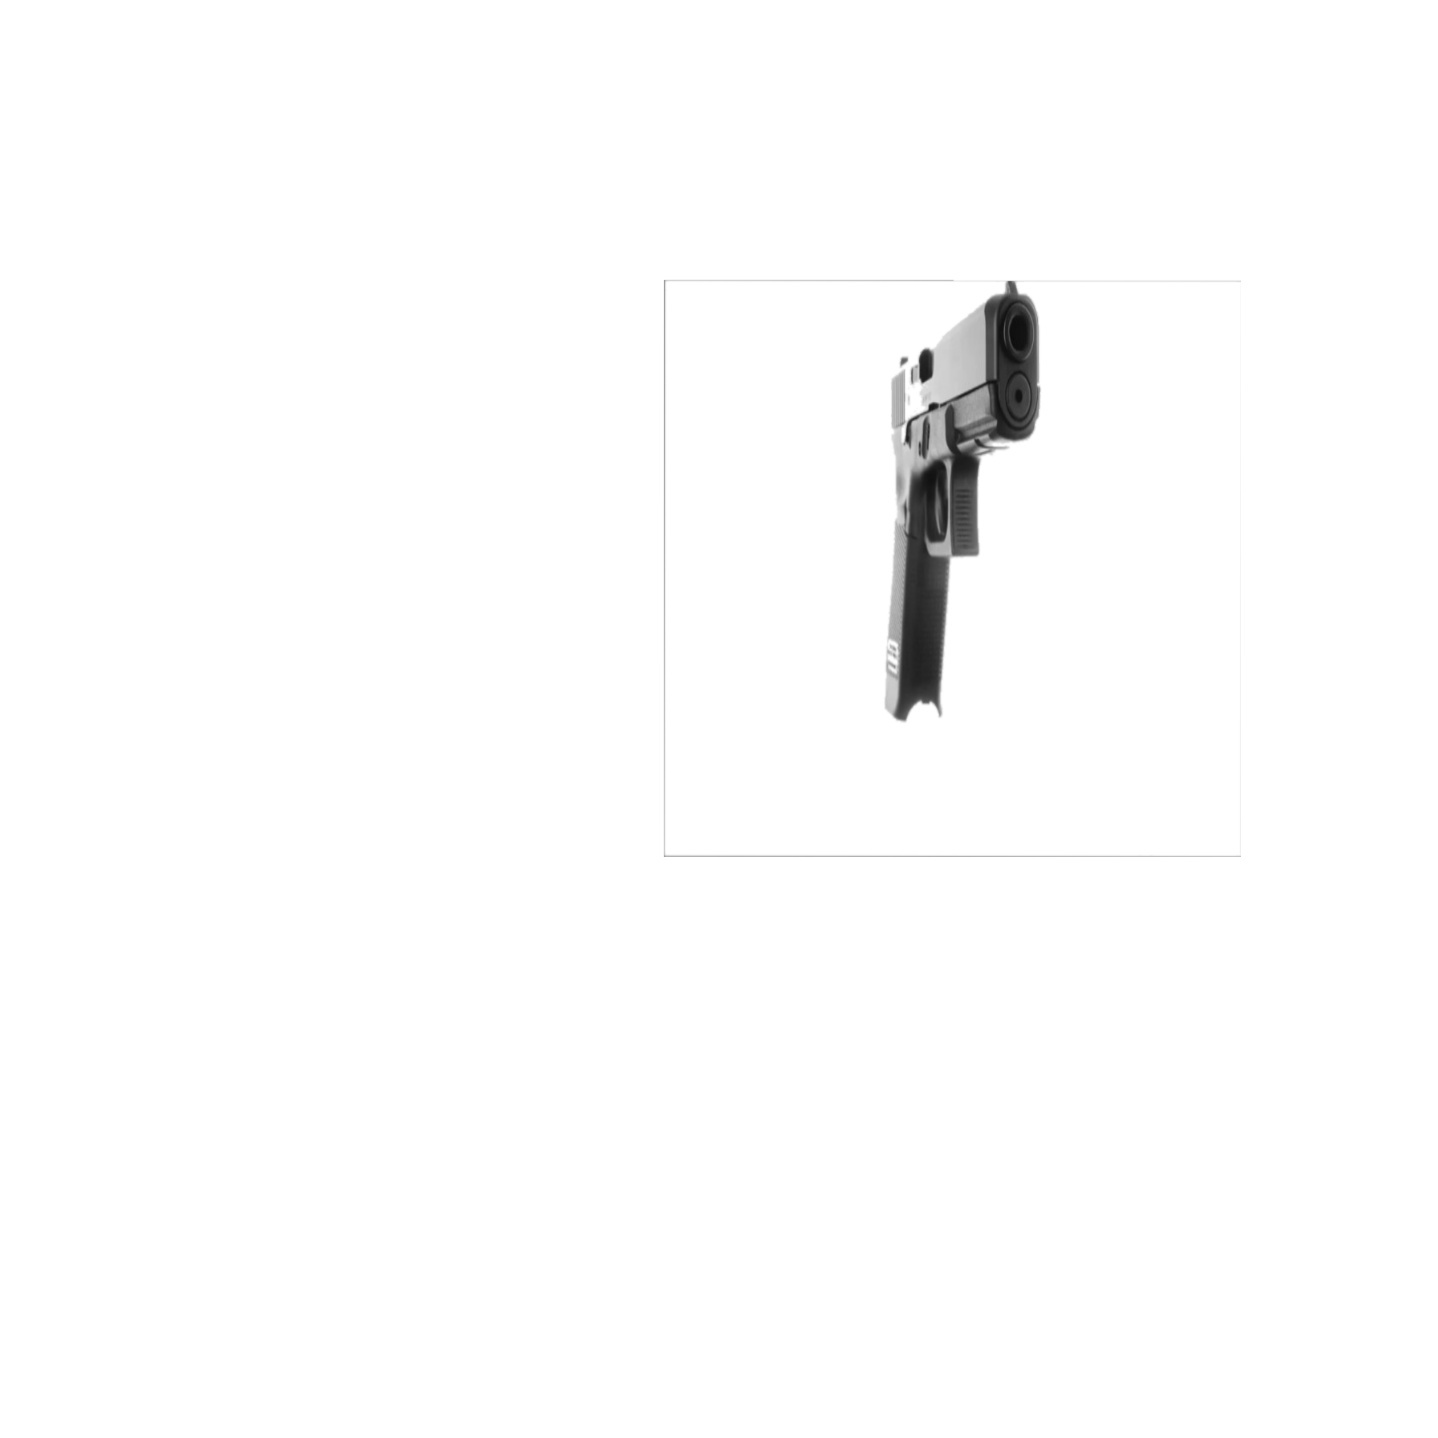gun: (874, 282, 1071, 732)
